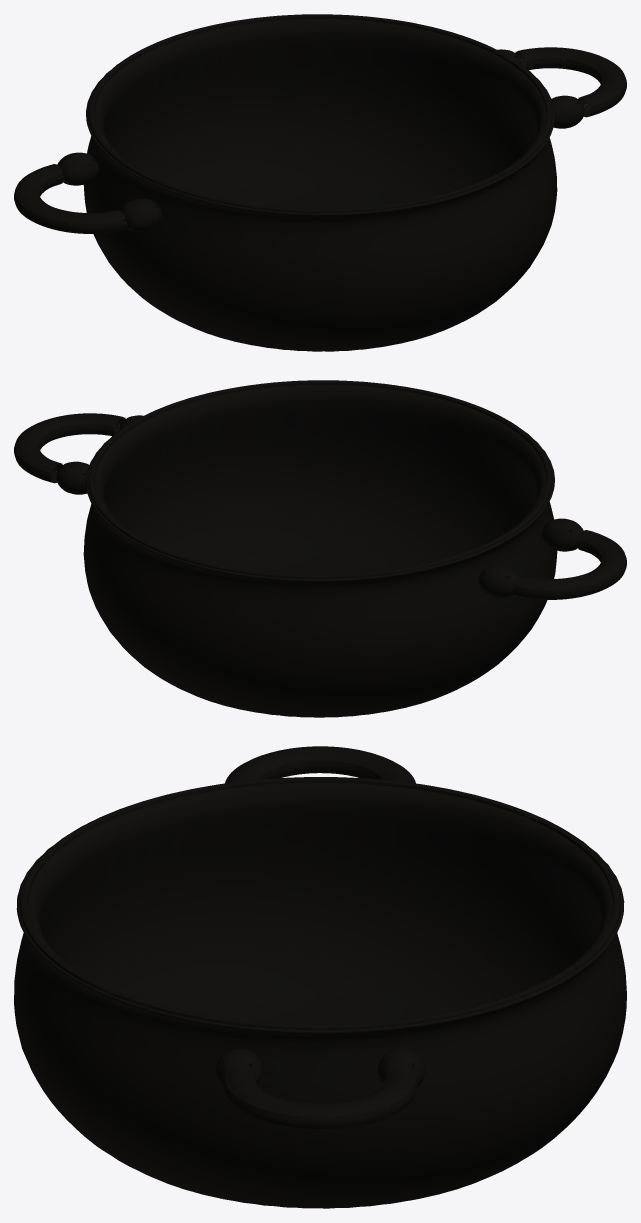
The model's file is PROP_Common_Pot_Open.glb.
3 views of the same model, one above another, from view 1: azimuth 30°, elevation 25°; view 2: azimuth 150°, elevation 25°; view 3: azimuth 270°, elevation 25° (orthographic). The views are drawn at different scales.
Visible parts, largest first — view 1: PROP_Common_Pot_Open; view 2: PROP_Common_Pot_Open; view 3: PROP_Common_Pot_Open.
Part boxes in pixels (left/top/right/bottom): PROP_Common_Pot_Open: left=14, top=14, right=626, bottom=351; PROP_Common_Pot_Open: left=14, top=380, right=626, bottom=717; PROP_Common_Pot_Open: left=14, top=746, right=626, bottom=1208.
Size of the model in its own units: 1.2 by 0.342 by 0.8399.
2 materials, 2 textured.
